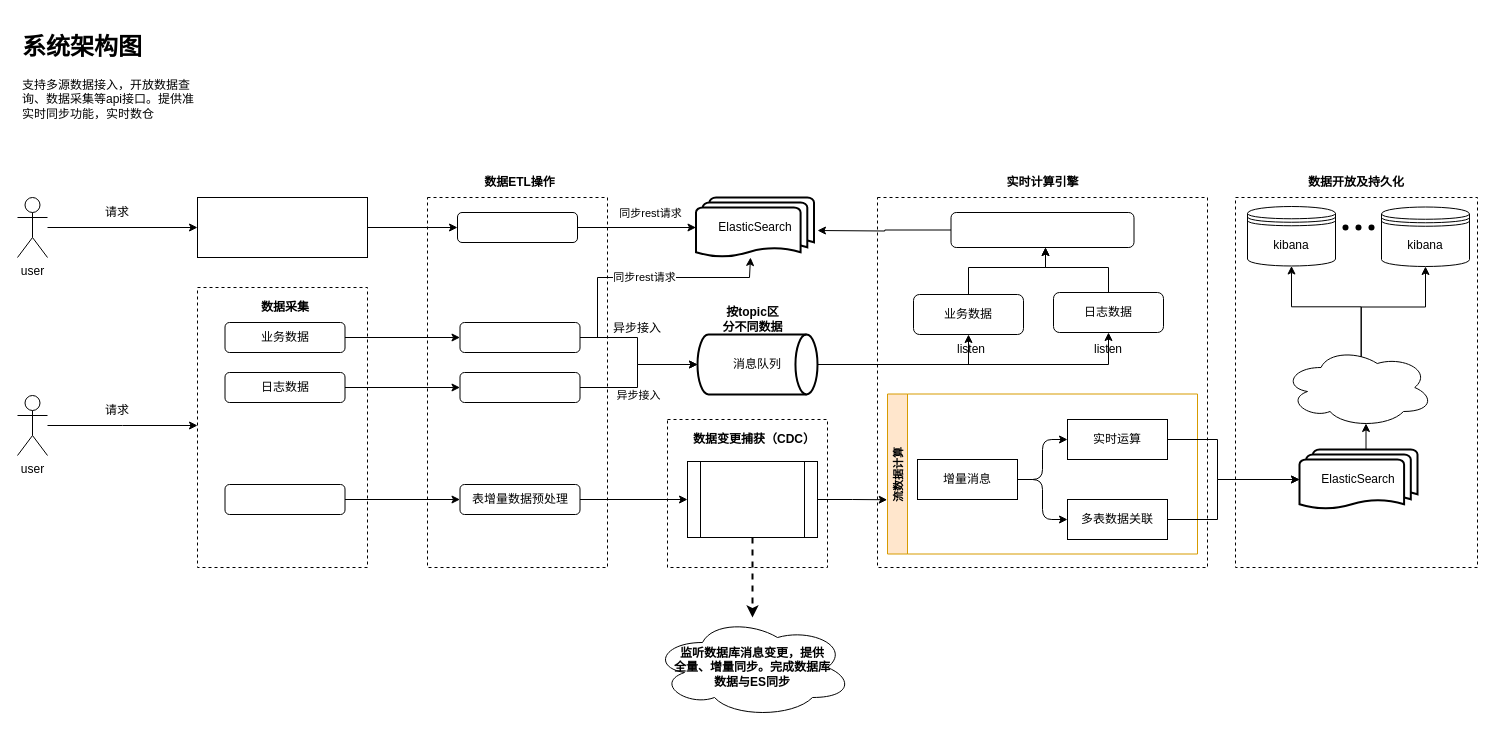
Some shapes in this 1495 by 735 pixel diagram are drawn without their labels. Here are the shapes that lost their labels. From the top down, the centre of each, then its label:
point 282,227: 数据查询
point 517,227: 参数转换
point 1042,230: 数据后置处理
point 519,337: 数据自定义清洗
point 519,387: 日志过滤及参数转换
point 1358,387: 数据管道，开放采集数据。如logstash等
point 284,499: 表增量数据变更
point 752,499: 增量消息监听组件
